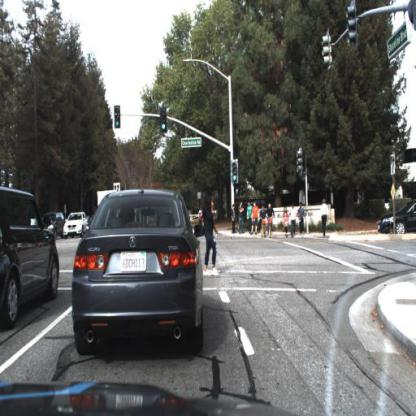biker: (264, 201, 278, 239)
car: (74, 190, 207, 354), (1, 184, 61, 335), (378, 202, 416, 237), (60, 210, 88, 240)
pedestrian: (200, 189, 222, 279), (320, 194, 330, 239), (287, 204, 298, 240), (298, 200, 308, 238), (282, 202, 292, 238), (245, 202, 253, 238), (239, 201, 246, 235)
trafficLight: (230, 158, 241, 190), (158, 105, 168, 136), (111, 104, 121, 131)
